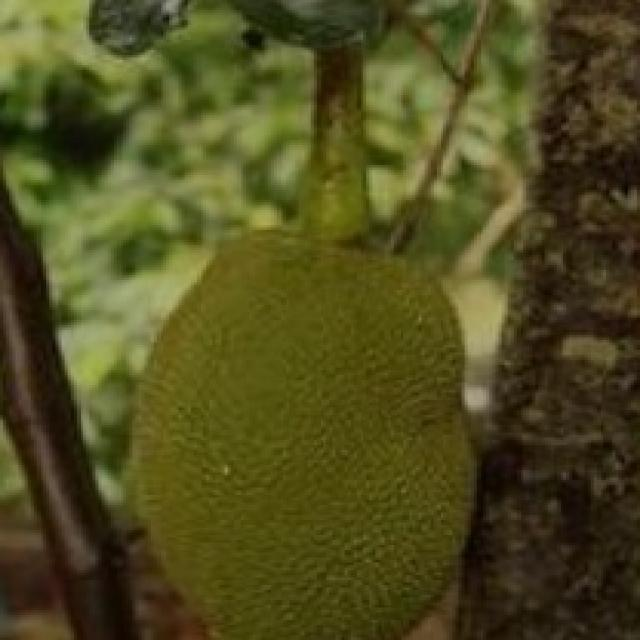Fruit: (240, 222, 532, 640)
